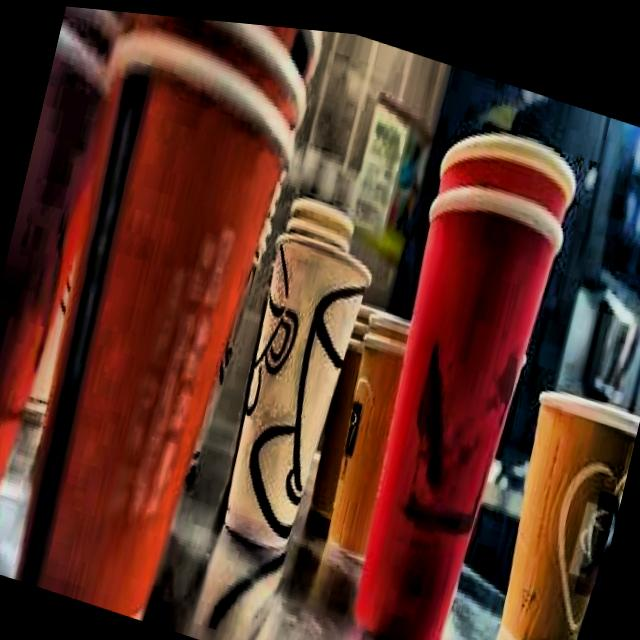Cup: (0, 0, 301, 634), (324, 93, 573, 640), (203, 212, 370, 580), (475, 356, 640, 640), (311, 287, 438, 574)
